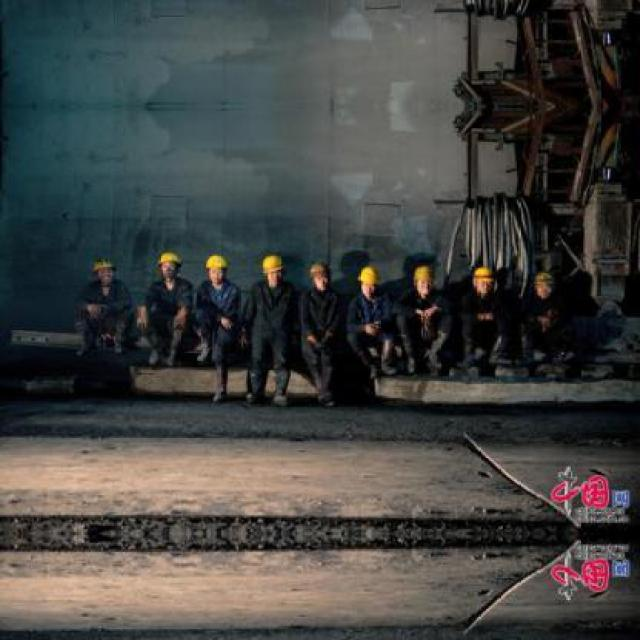helmet: (259, 255, 286, 276), (357, 264, 381, 287), (408, 264, 435, 284), (159, 253, 183, 273), (203, 253, 229, 271), (306, 260, 331, 278), (532, 270, 556, 288), (474, 268, 497, 286), (92, 256, 116, 273)
